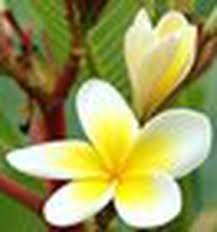frangipani: (5, 81, 213, 228)
